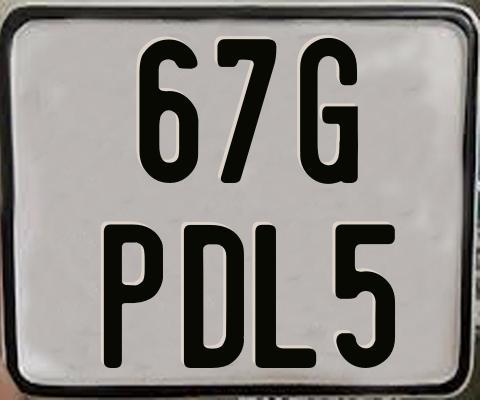5: (332, 221, 395, 368)
6: (137, 37, 199, 184)
7: (216, 37, 277, 181)
D: (181, 223, 244, 371)
G: (299, 35, 357, 186)
L: (254, 222, 315, 370)
P: (102, 222, 167, 367)
